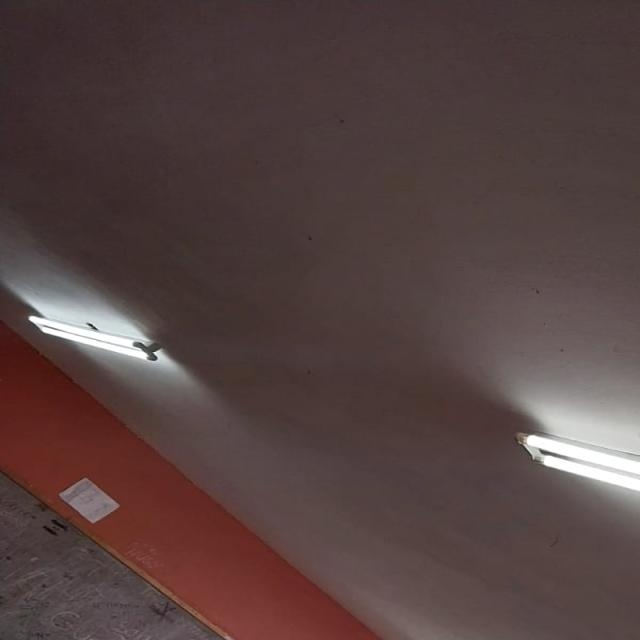fluorescent tube: (482, 409, 640, 640), (5, 294, 171, 382)
